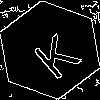K: (25, 25, 83, 81)
